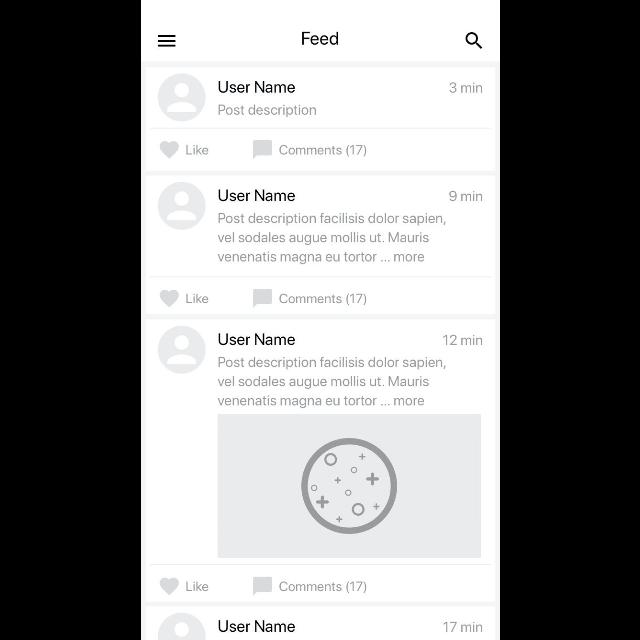icon: (158, 74, 206, 122), (157, 182, 205, 230), (158, 326, 205, 374), (158, 612, 206, 640), (252, 140, 272, 160), (252, 577, 272, 597), (252, 288, 272, 308), (160, 577, 178, 595), (160, 142, 178, 158), (160, 290, 178, 306), (466, 32, 482, 49), (157, 36, 175, 46)
image: (218, 414, 480, 558)
panel: (144, 320, 496, 602), (147, 178, 497, 316), (144, 67, 496, 171)
text: (218, 213, 446, 265), (216, 358, 446, 408), (218, 104, 316, 118), (278, 145, 366, 157), (279, 294, 366, 306), (279, 581, 366, 593), (217, 620, 295, 632), (218, 82, 294, 94), (218, 190, 294, 202), (218, 333, 294, 345), (302, 32, 338, 46), (442, 621, 482, 633), (444, 334, 482, 346), (449, 190, 483, 202), (450, 82, 482, 94), (186, 145, 208, 155), (186, 294, 208, 304), (186, 582, 208, 592)
